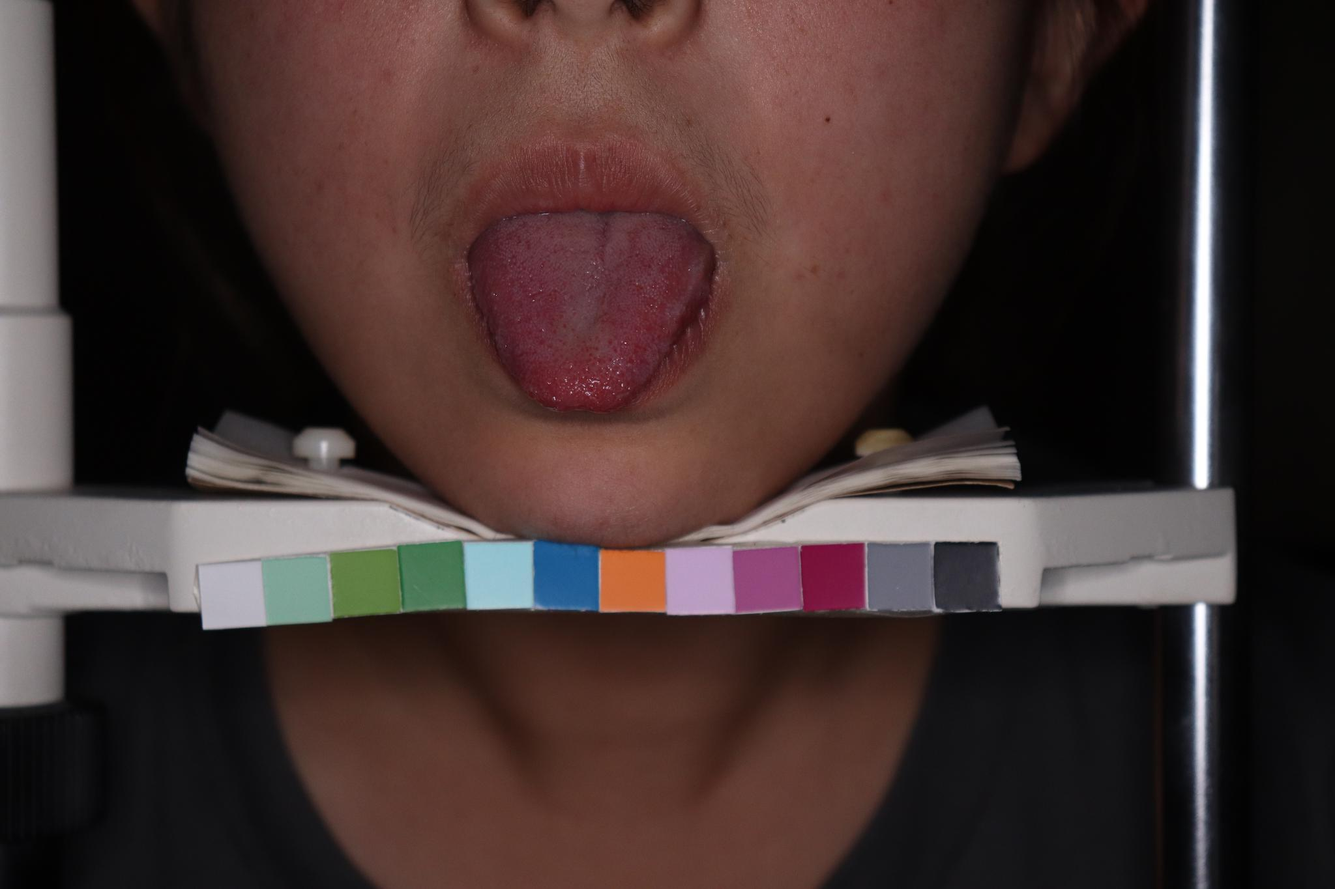baitaishe: (469, 212, 714, 413)
hongdianshe: (607, 337, 613, 346), (561, 322, 567, 328), (587, 352, 593, 358), (594, 345, 599, 351)
hongshe: (469, 212, 714, 413)
